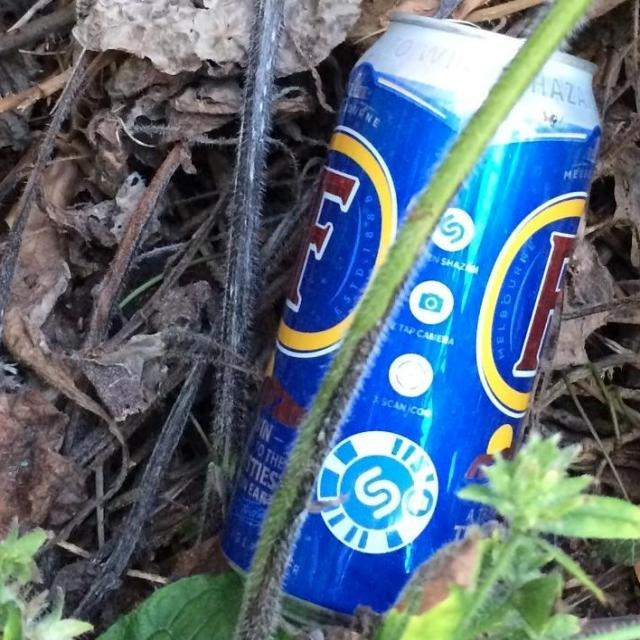Metal: (206, 0, 617, 640)
